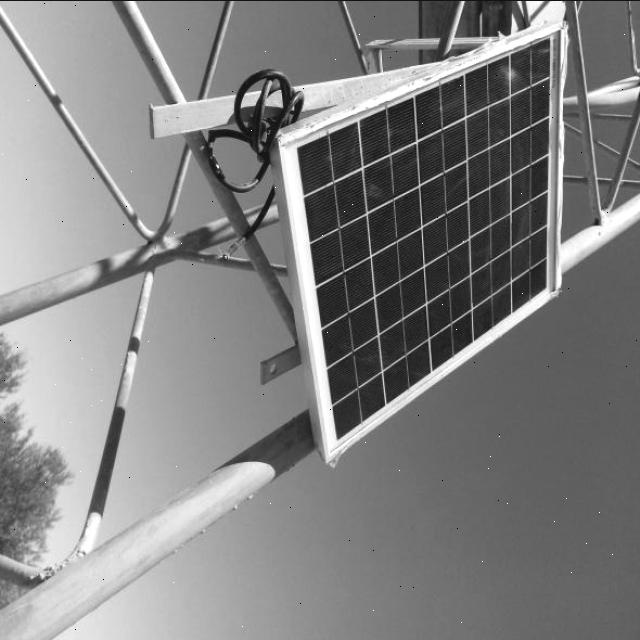Normal Solar Panel: (281, 25, 563, 460)
